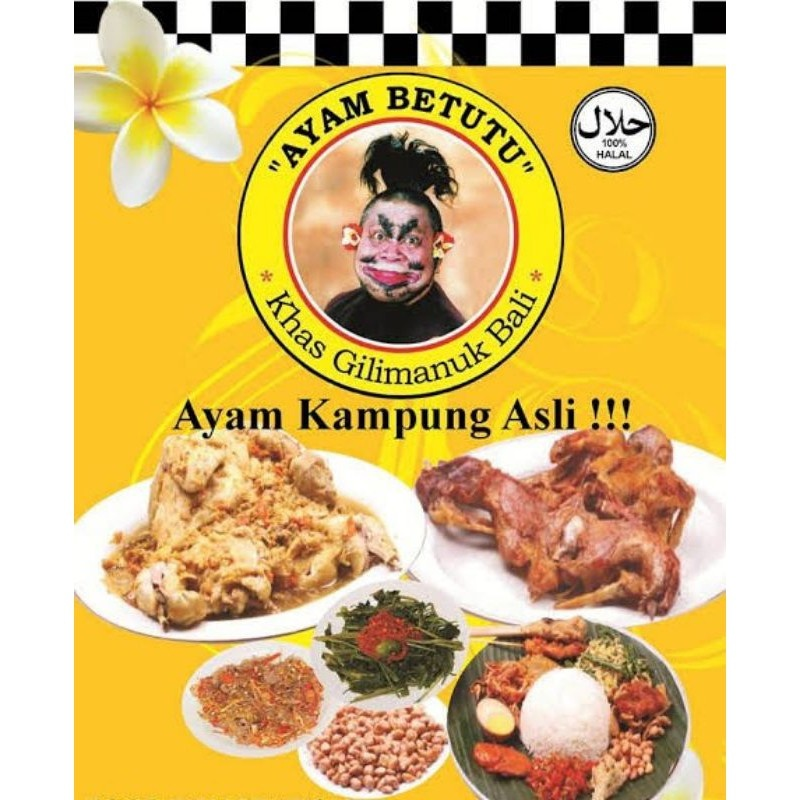ayam_betutu: (418, 432, 696, 617)
